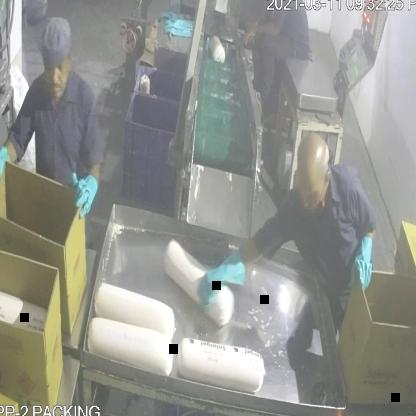glove: (193, 254, 251, 314), (65, 167, 108, 227), (348, 229, 376, 302), (0, 152, 12, 206)
no_glove: (240, 14, 286, 54)
